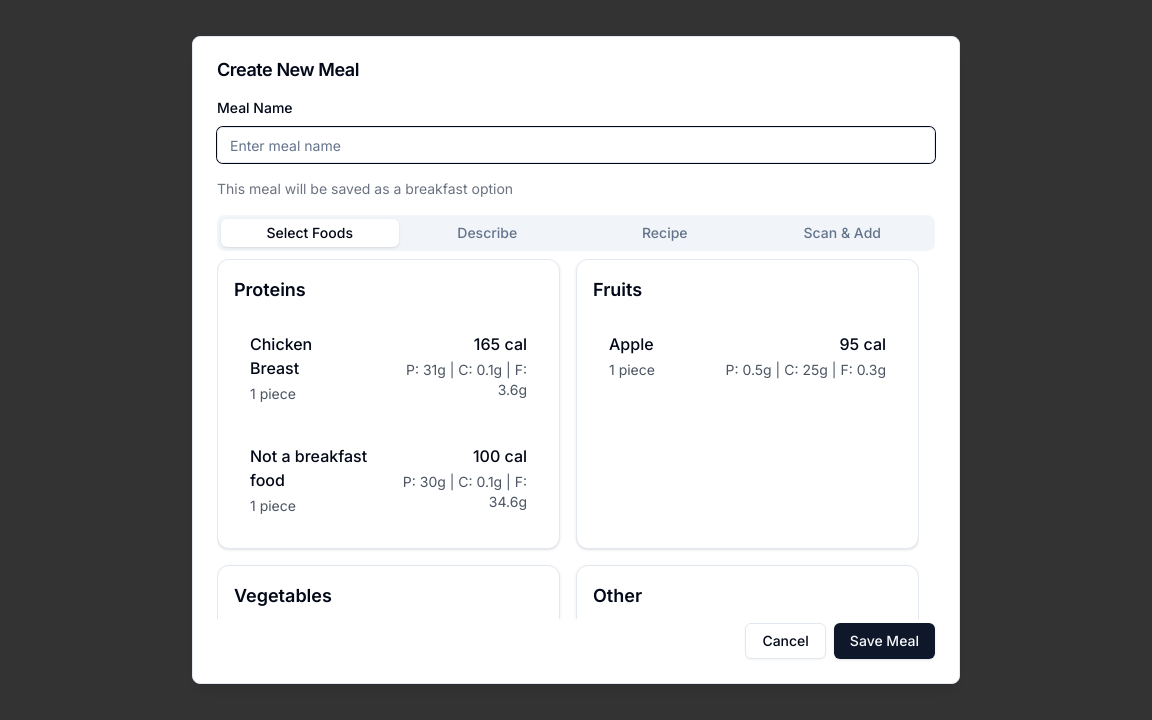
Scenario: MealEditor › handles scan mode validation
// Switch to scan tab
Click the tab "Scan & Add" at (842, 233), box [754,219,931,247]
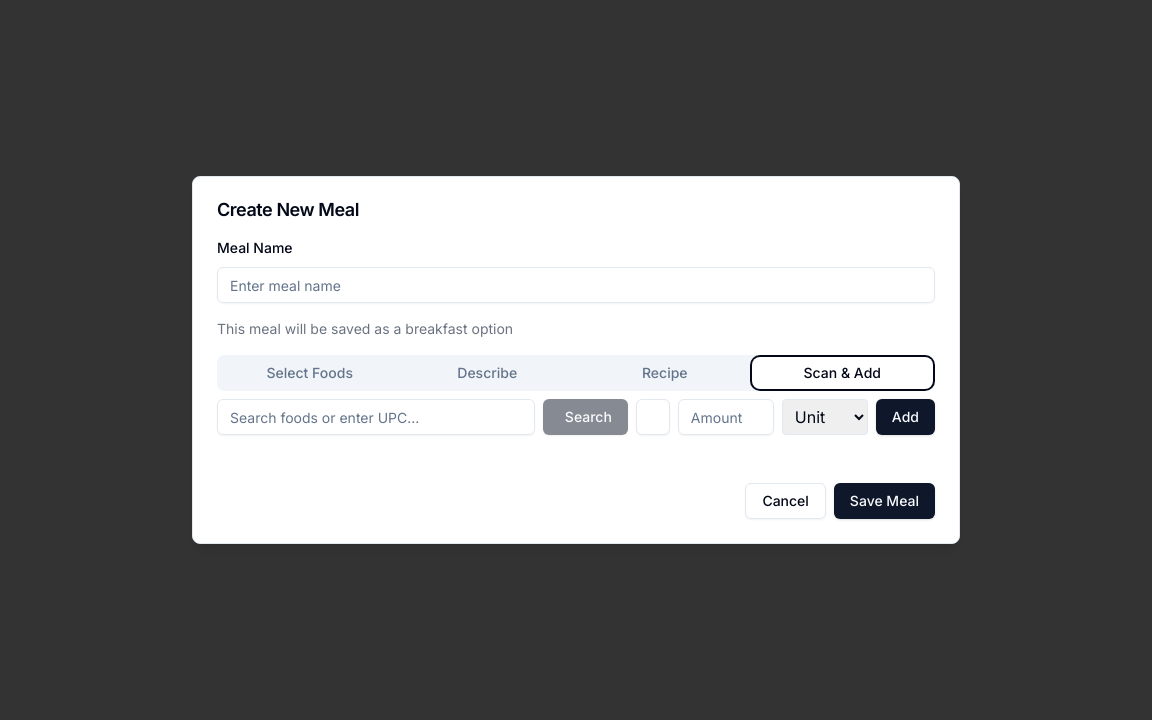
// Enter meal name
Type "Test Meal" into the field labelled "Meal Name" at (576, 285), box [217,267,935,303]
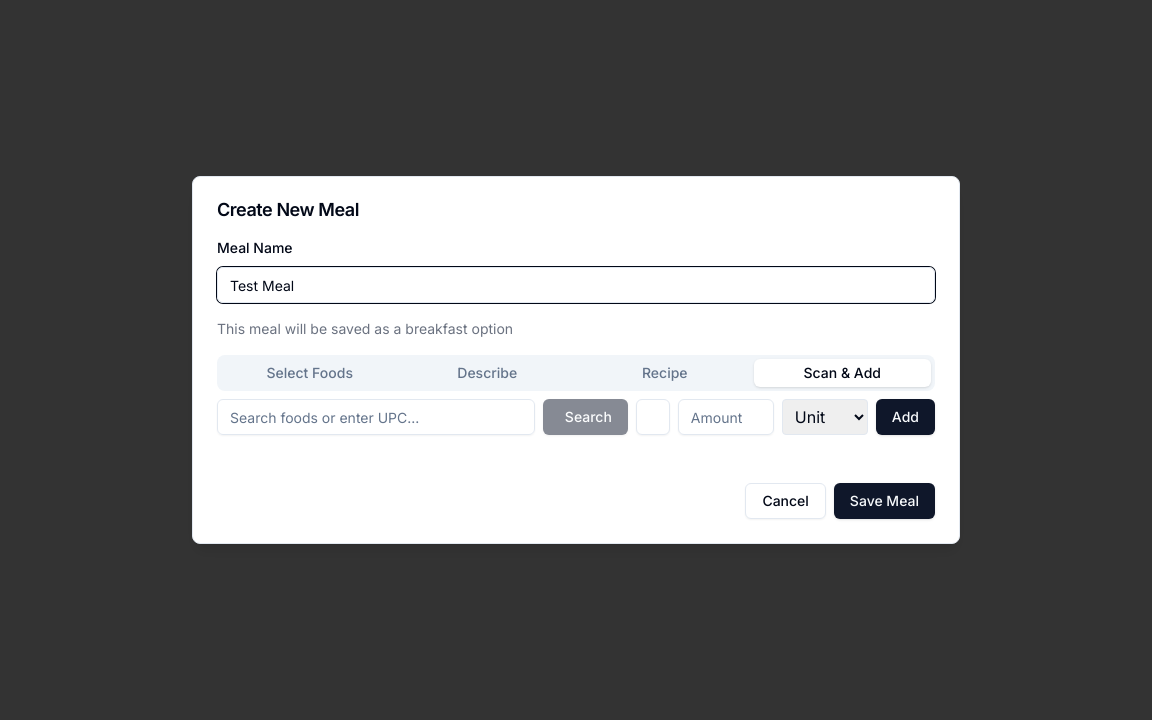
// Try to save without ingredients
Click the button "Save Meal" at (884, 501), box [834,483,935,519]
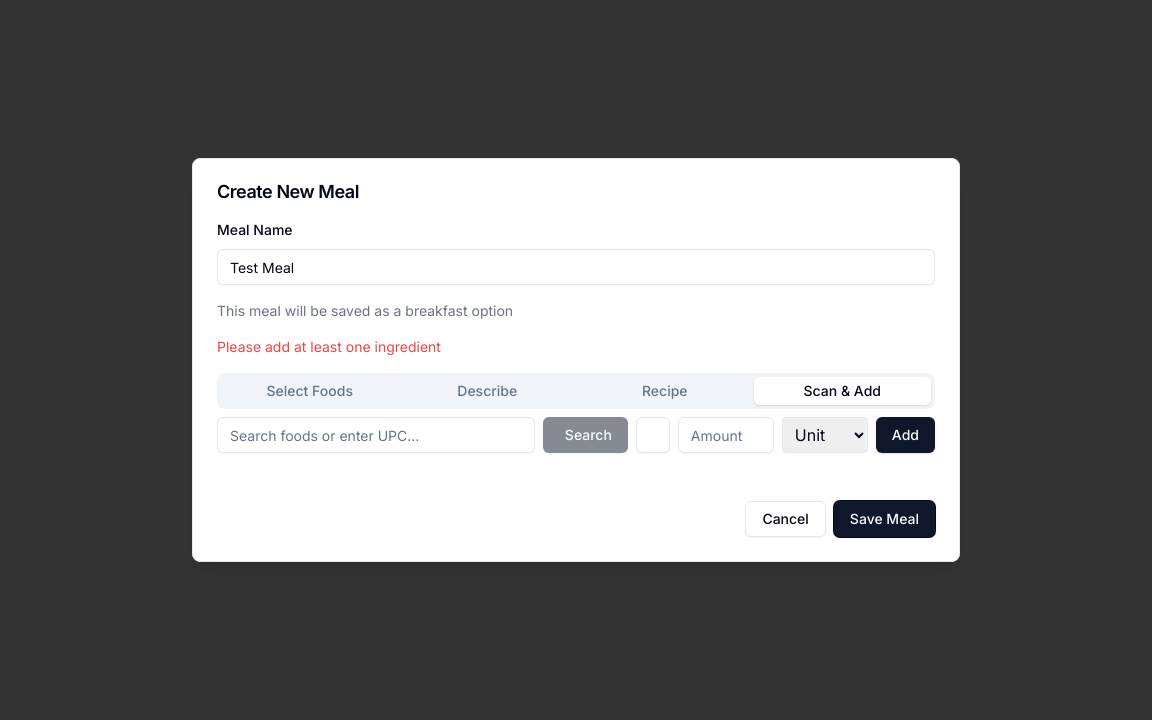
Result: the text "Please add at least one ingredient" is shown at [217,338,441,355]
